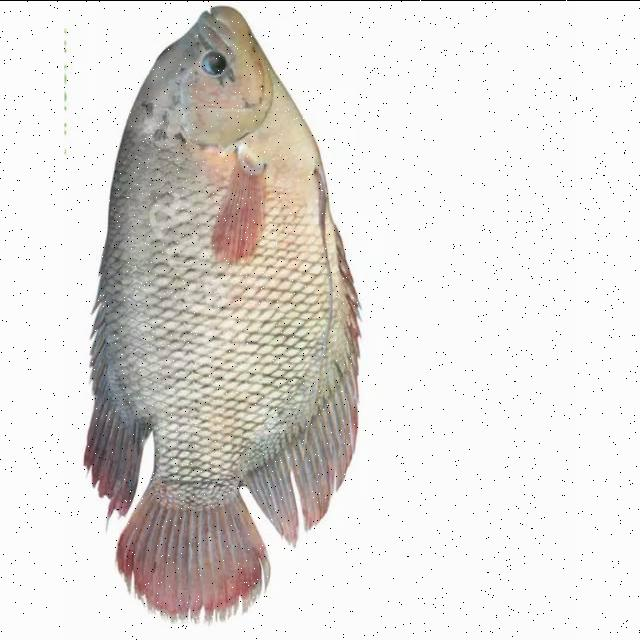Mulut: (176, 1, 290, 124)
Sirip Anal: (229, 222, 395, 562)
Sirip Dada: (198, 130, 292, 280)
Sirip Ekor: (98, 442, 286, 634)
Sirip Punggung: (60, 176, 162, 528)
